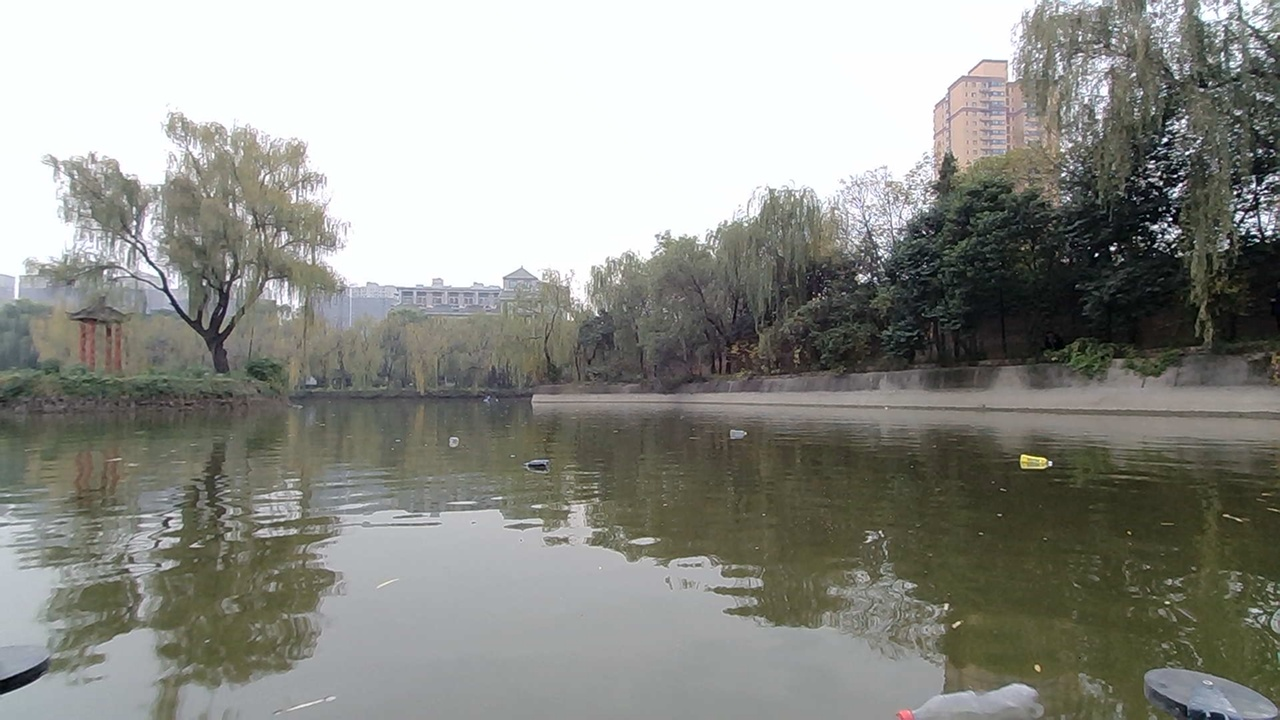bottle: (891, 648, 1072, 720), (508, 443, 580, 484), (430, 419, 493, 455), (1017, 443, 1050, 477), (717, 415, 756, 439)
